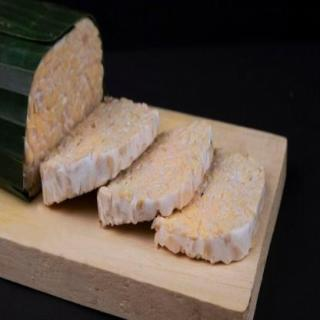Tempe: (1, 1, 267, 265)
